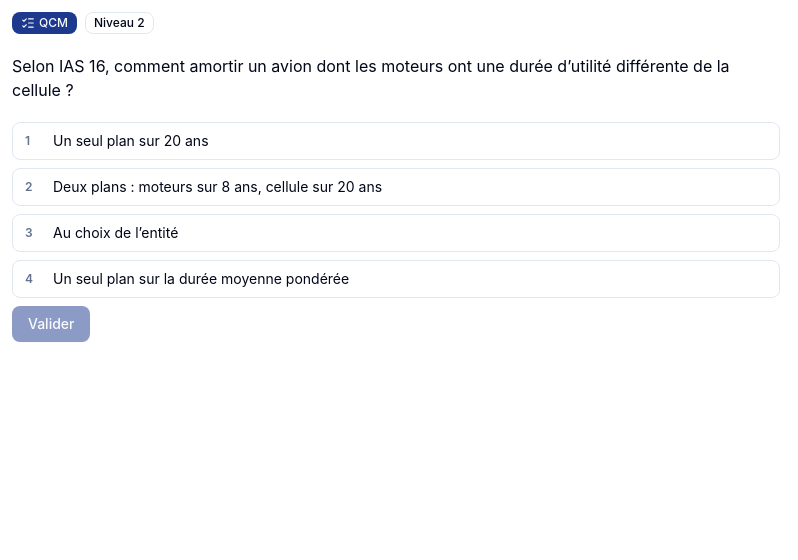
Test: ExercisePlayer › QCM : sélection, validation, correction et explication
What coordinates should you click on to do the following:
click the radio button labelled "2 Deux plans : moteurs sur 8 ans, cellule sur 20 ans"
I would click on:
 (218, 186)
Its box is [12, 168, 780, 206].
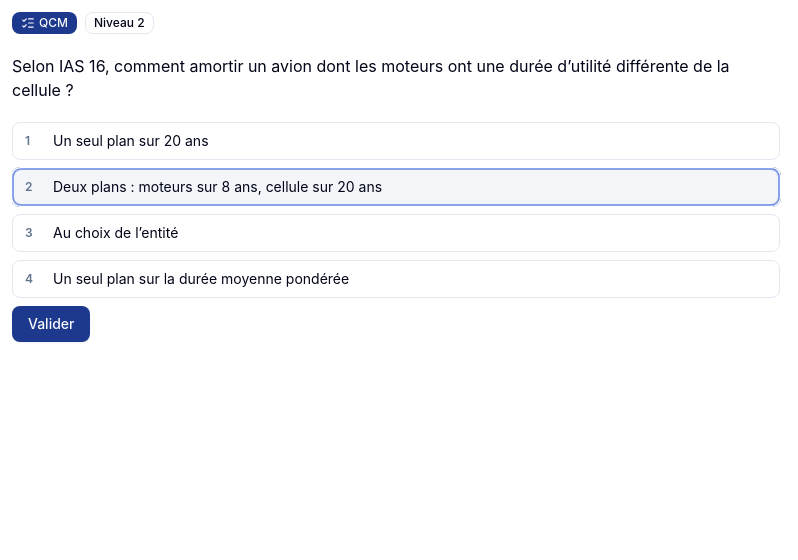
What coordinates should you click on to do the following:
click the button "Valider"
I would click on:
 (51, 324)
Its box is [12, 306, 90, 342].
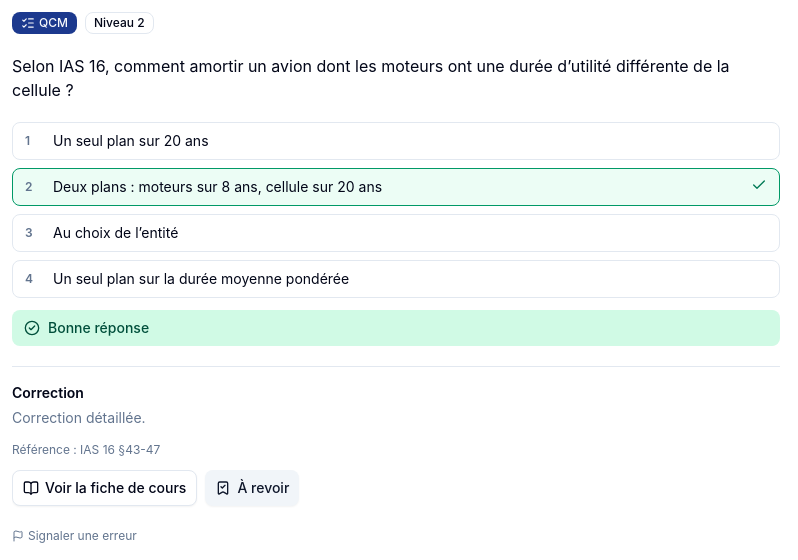
Expected: the message reads "Bonne réponse", [48, 319, 149, 336]
Expected: the text "Correction détaillée." is shown, [12, 409, 146, 426]
